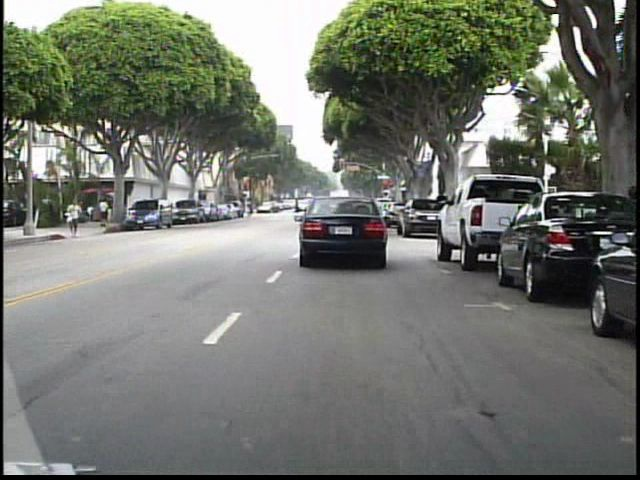person: (68, 195, 88, 239), (101, 195, 116, 229), (249, 199, 261, 219)
